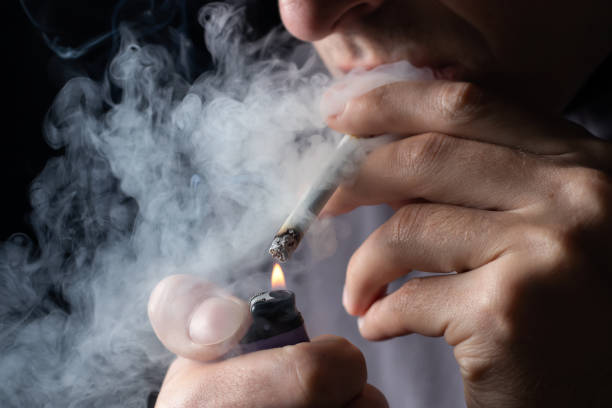cigarette: (267, 133, 365, 265)
